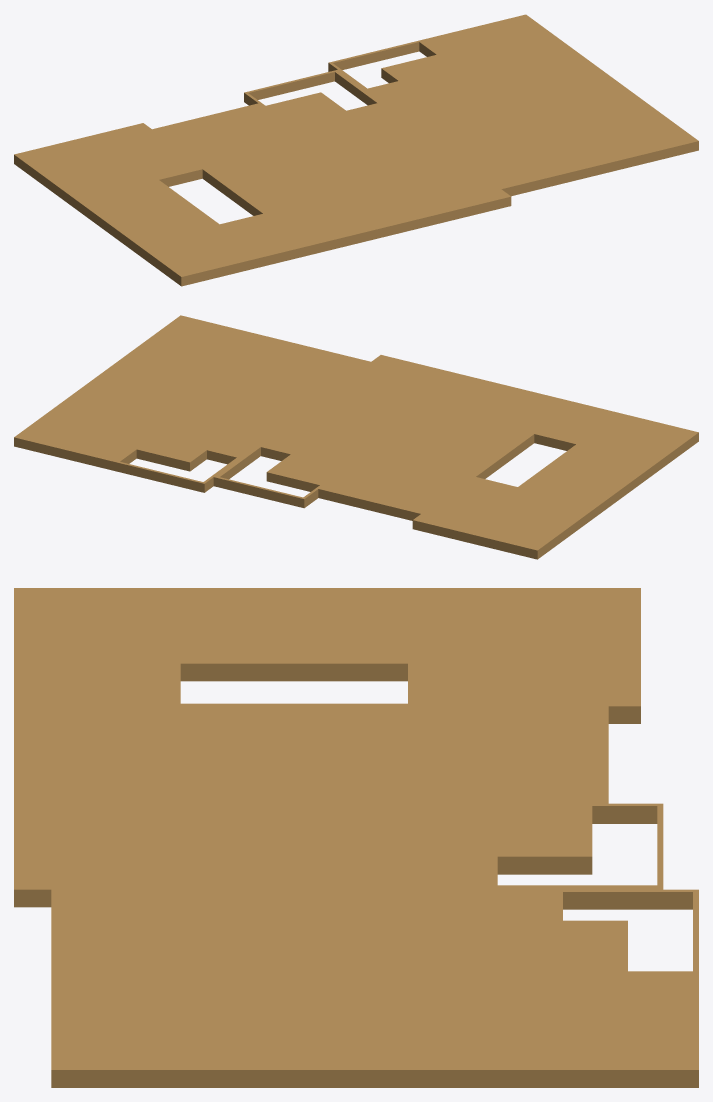
3 views of the same model, one above another, from view 1: azimuth 30°, elevation 25°; view 2: azimuth 150°, elevation 25°; view 3: azimuth 270°, elevation 25° (orthographic). The views are drawn at different scales.
Visible parts, largest first — view 1: FF-B-FLOOR; view 2: FF-B-FLOOR; view 3: FF-B-FLOOR.
Boxes of the visible parts, x1=… form: FF-B-FLOOR: x1=14, y1=14, x2=698, y2=286; FF-B-FLOOR: x1=14, y1=315, x2=698, y2=559; FF-B-FLOOR: x1=14, y1=588, x2=698, y2=1087.
Bounding box in the file's own units: 17.51 × 0.3 × 10.51.
